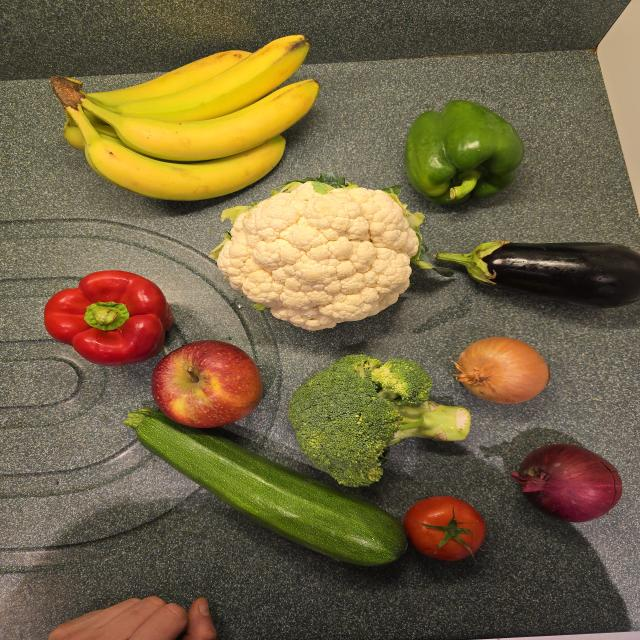Apple: (152, 341, 262, 428)
Banana: (70, 108, 285, 200), (80, 80, 319, 161), (88, 35, 309, 121)
Bell Pepper: (404, 100, 524, 204), (44, 271, 173, 366)
Broccoli: (288, 355, 470, 487)
Cauliflower: (218, 182, 419, 330)
Courgette: (124, 408, 407, 566)
Eggplant: (436, 240, 640, 308)
Onion: (511, 444, 621, 522), (455, 337, 549, 403)
Tomato: (404, 496, 486, 561)
